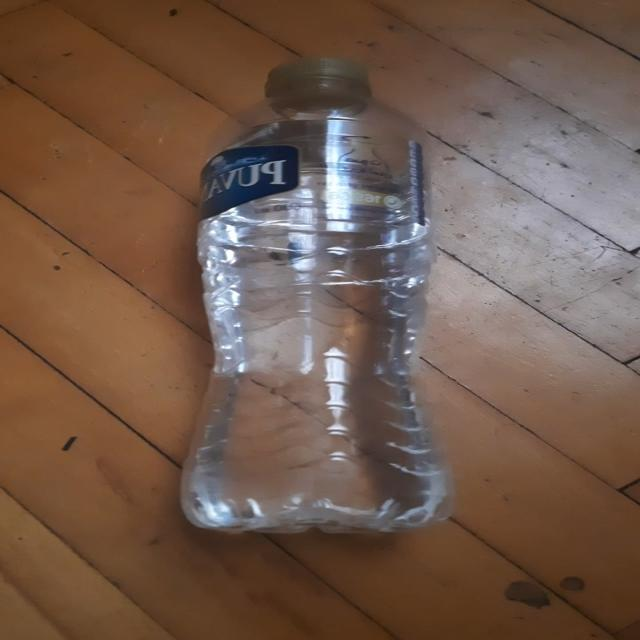Plastic: (178, 58, 455, 540)
